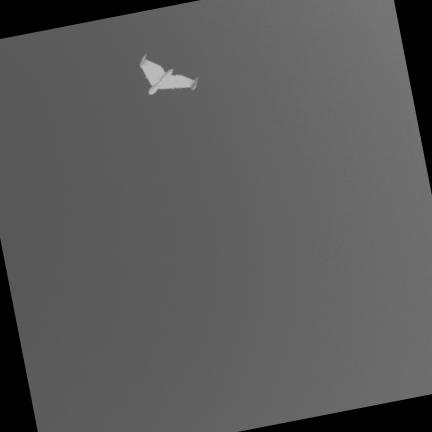Shahed: (140, 55, 197, 93)
